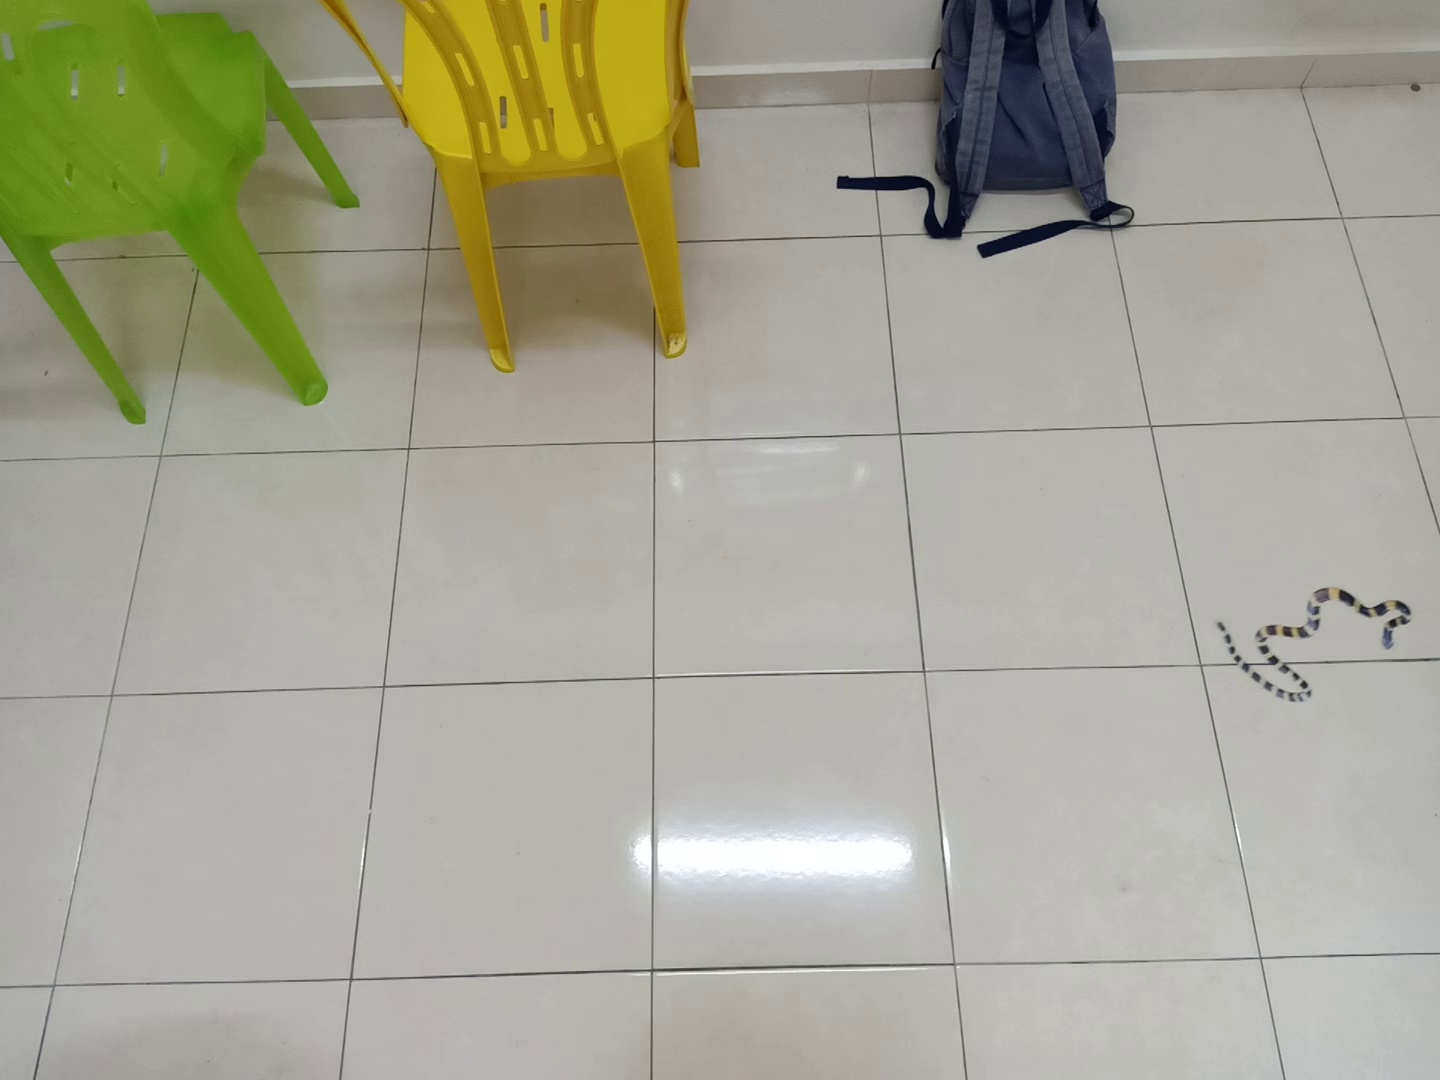snake: (1209, 582, 1422, 709)
